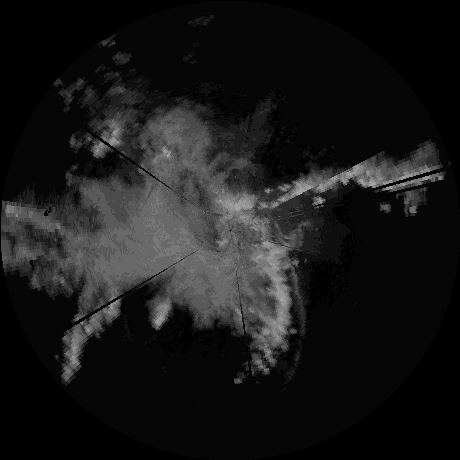frontgust: (289, 269, 308, 360), (266, 210, 287, 237)
